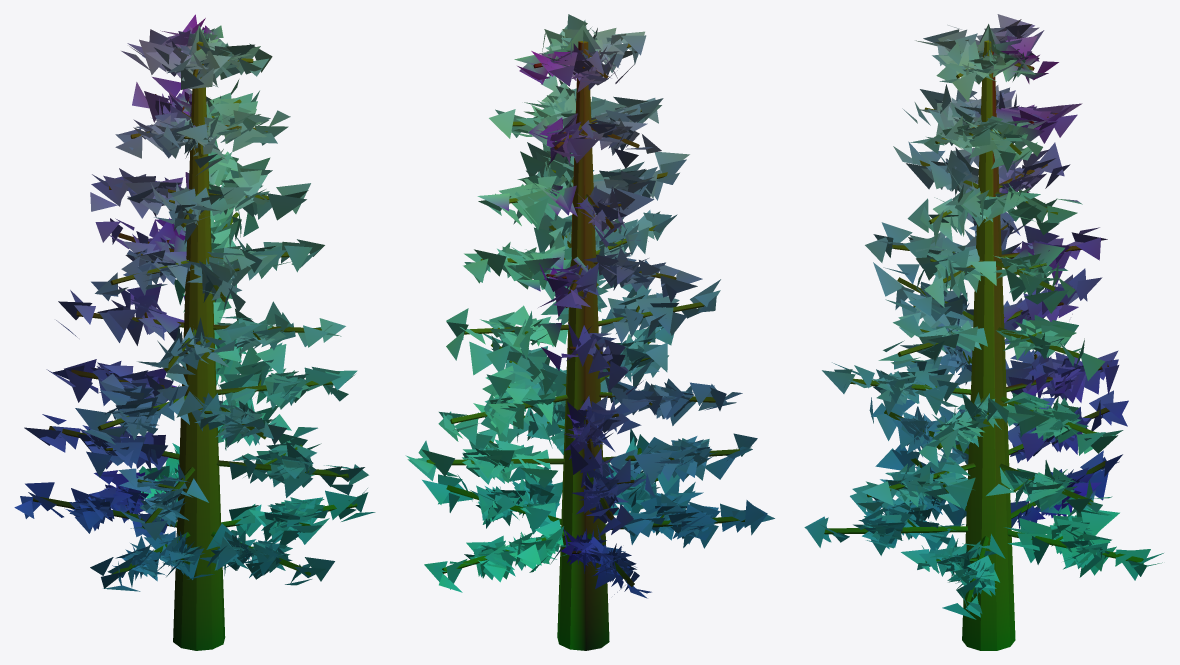
The model's file is ecological_conifer_established_01.glb.
3 renders of one model, left to right at view 1: azimuth 30°, elevation 25°; view 2: azimuth 150°, elevation 25°; view 3: azimuth 270°, elevation 25°, orthographic.
Visible parts, largest first — view 1: ecological_conifer_established_01; view 2: ecological_conifer_established_01; view 3: ecological_conifer_established_01.
Part boxes in pixels (left/top/right/bottom): ecological_conifer_established_01: left=14, top=14, right=375, bottom=650; ecological_conifer_established_01: left=405, top=14, right=774, bottom=650; ecological_conifer_established_01: left=804, top=14, right=1163, bottom=650.
Bounding box in the file's own units: 10.37 × 19.58 × 10.4.
